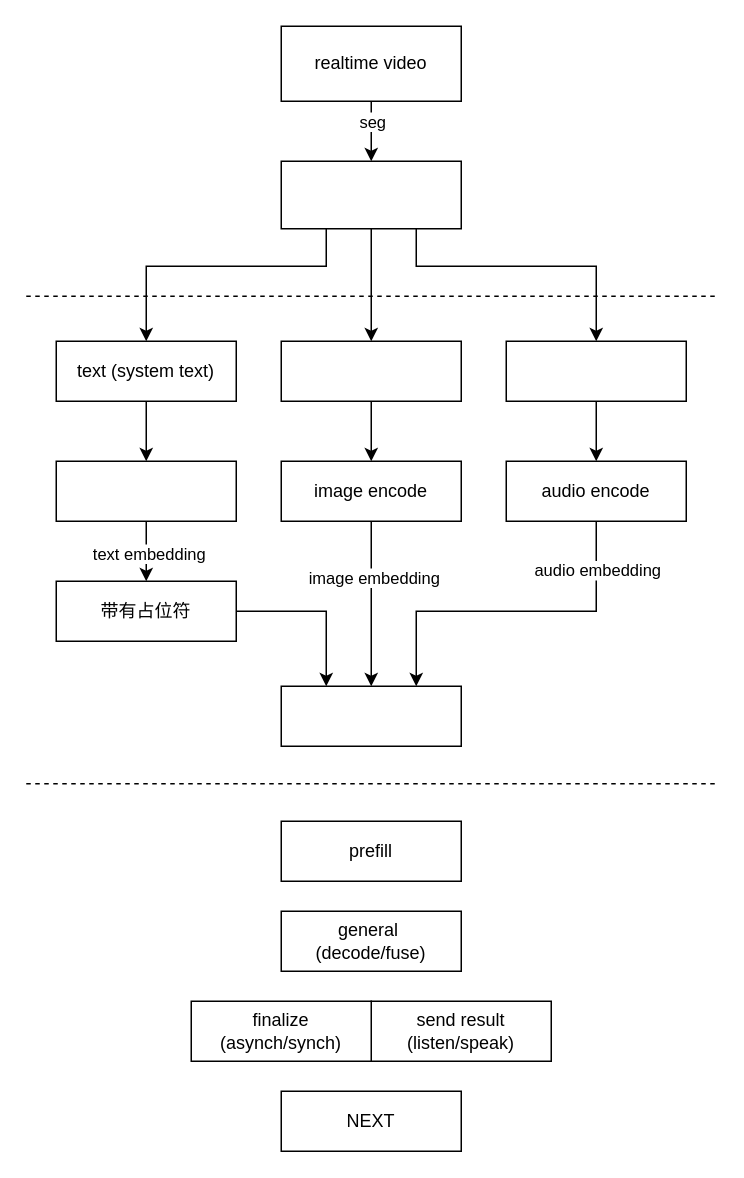
The diagram is 744 pixels wide and 1178 high, and some of its shapes have lost their labels. Each missing label, with the centre of its shape:
"audio (chuck)" belongs at (x=595, y=370).
"chunk (len = 1s)" belongs at (x=370, y=194).
"inputs_embedding" belongs at (x=370, y=715).
"tokenizer" belongs at (x=145, y=490).
"video (image)" belongs at (x=370, y=370).
